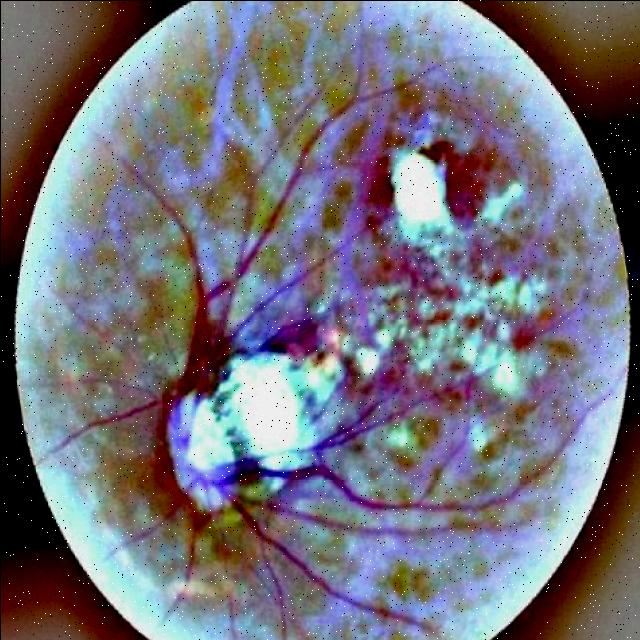Macula: (419, 141, 485, 223)
Nerves: (39, 102, 532, 629), (303, 399, 393, 457)
Optic Disk: (167, 347, 340, 510)
